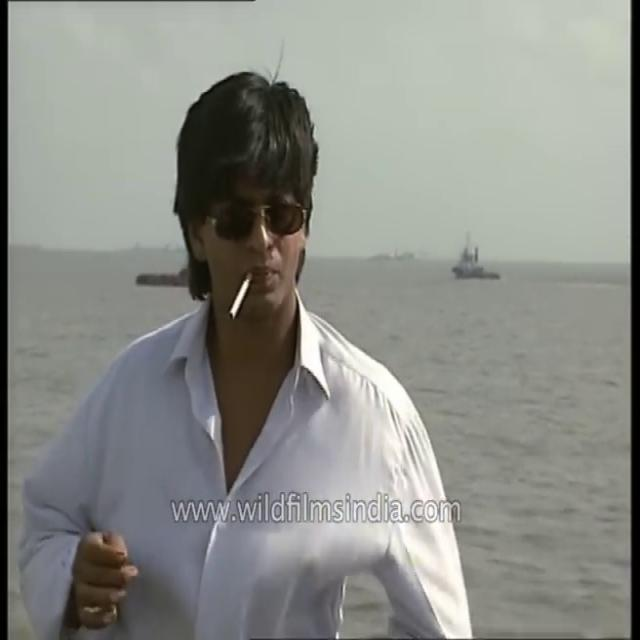Smooking: (224, 273, 262, 323)
